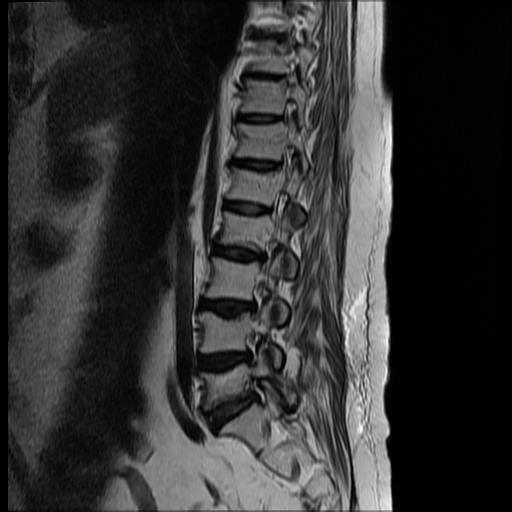RFS1: (234, 325, 272, 371)
